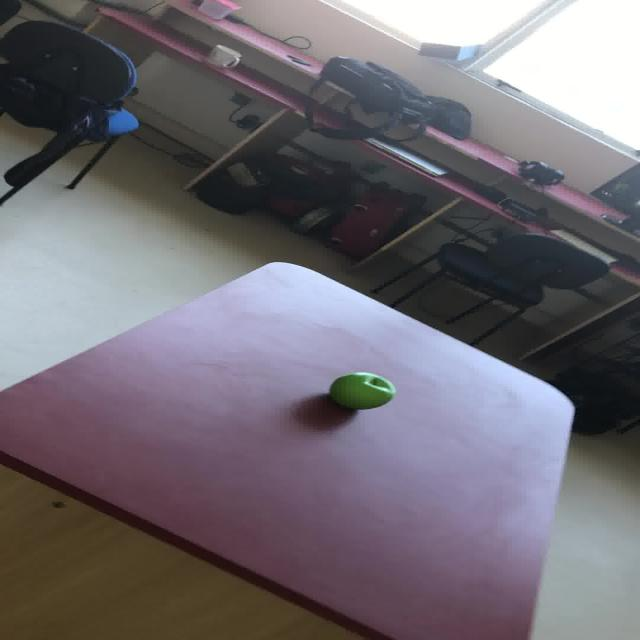apple: (328, 372, 395, 409)
